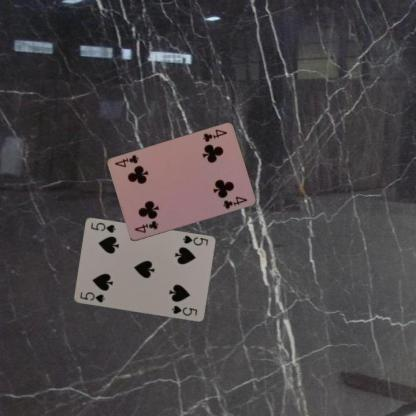4c: (200, 127, 228, 144), (132, 218, 159, 235)
5s: (77, 289, 106, 304), (180, 233, 209, 247)
